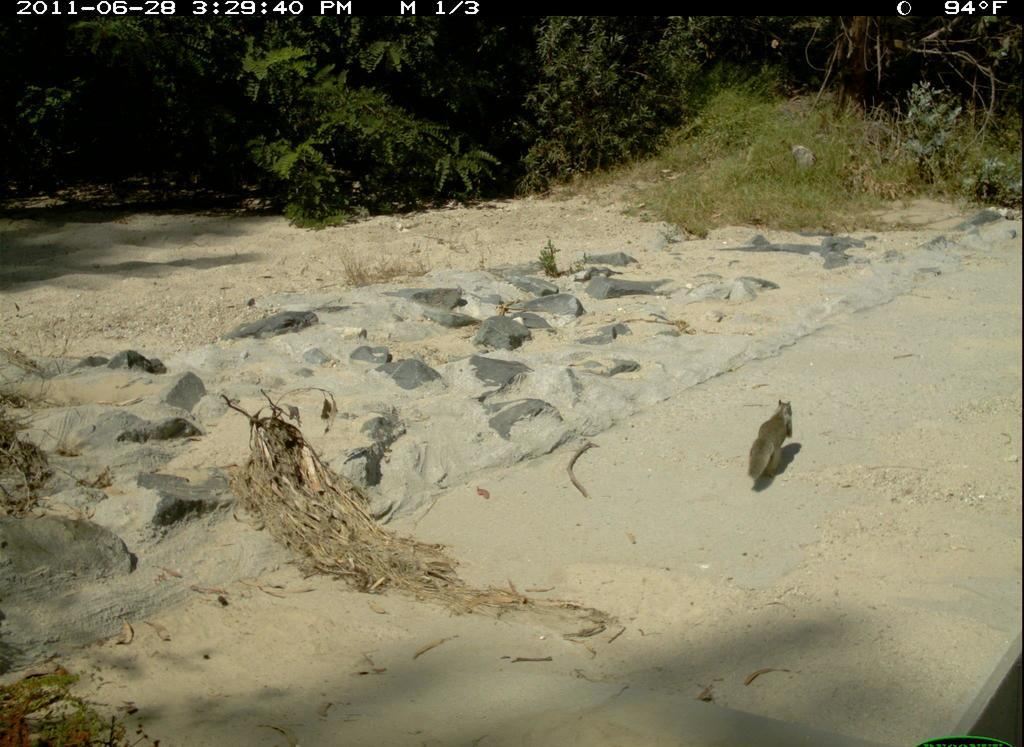squirrel: (742, 390, 804, 488)
